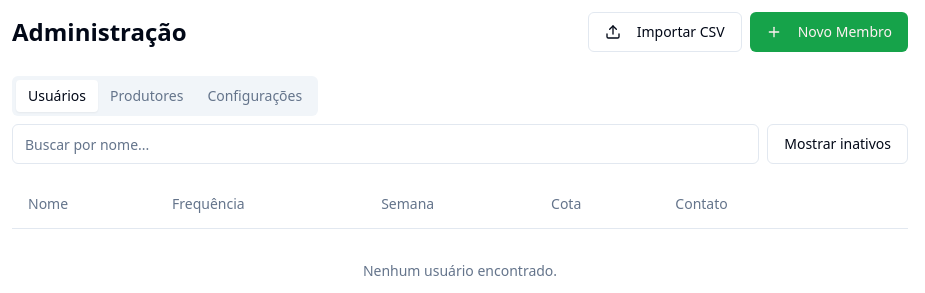
AdminPage — ação principal por aba › volta para Novo Membro ao retornar à aba usuários
Click the tab "Produtores" at (147, 96), box [98, 80, 195, 112]
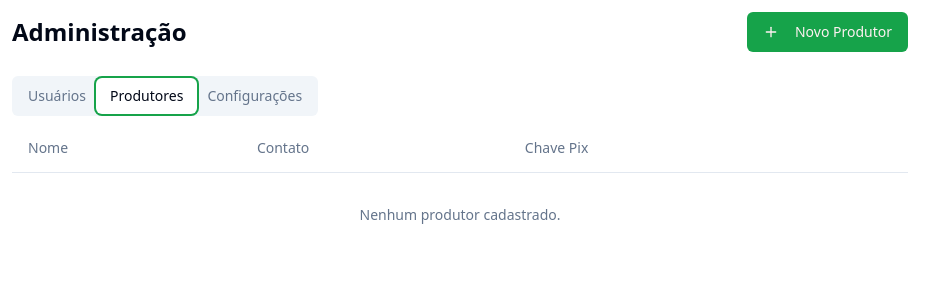
Click the tab "Usuários" at (57, 96), box [16, 80, 98, 112]
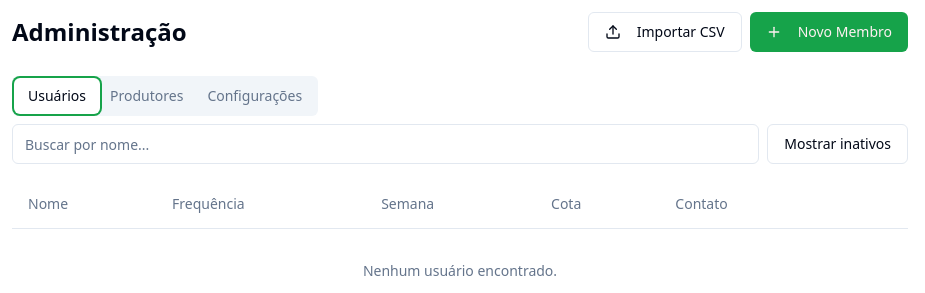
Expected: the button "Novo Membro" is shown, [750, 12, 908, 52]
Expected: the button "Novo Produtor" is gone
